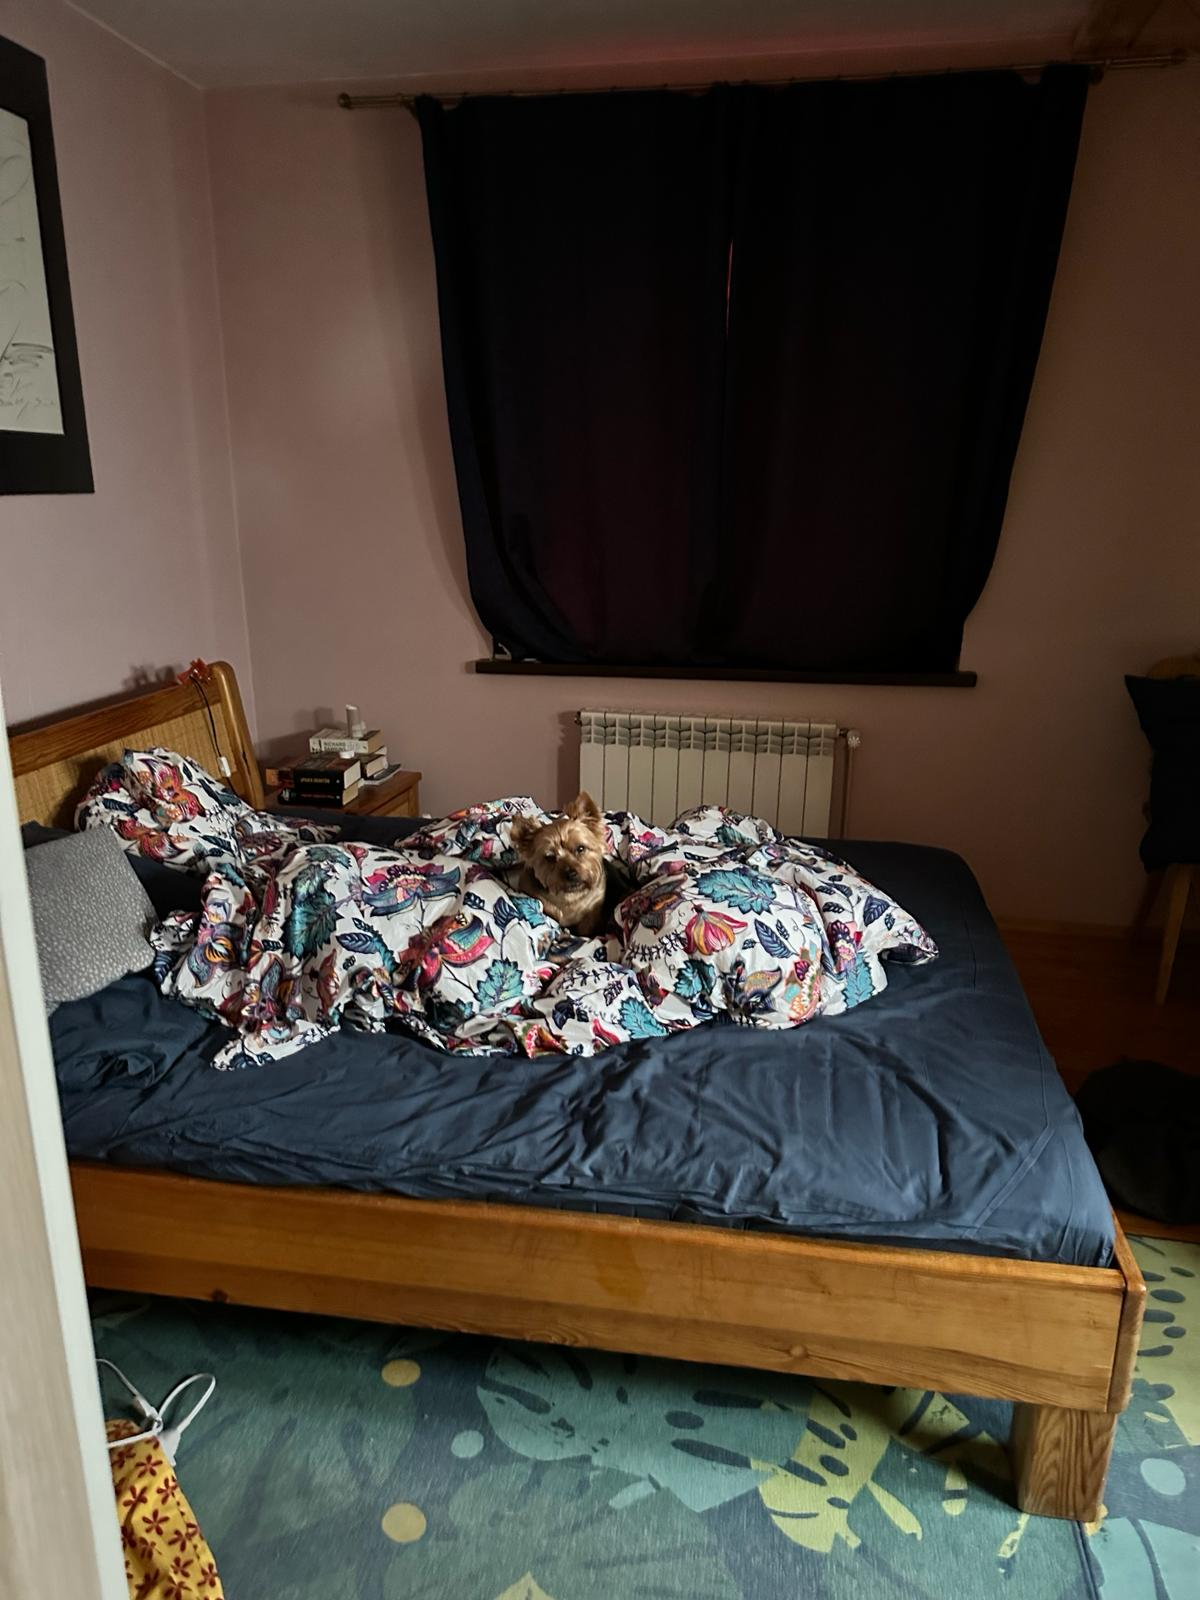stasiu: (463, 792, 829, 1020)
